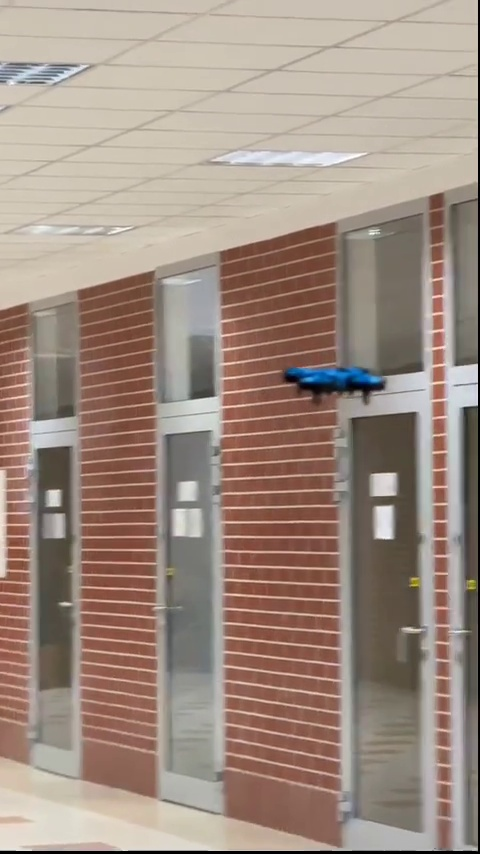drone: (283, 359, 387, 406)
